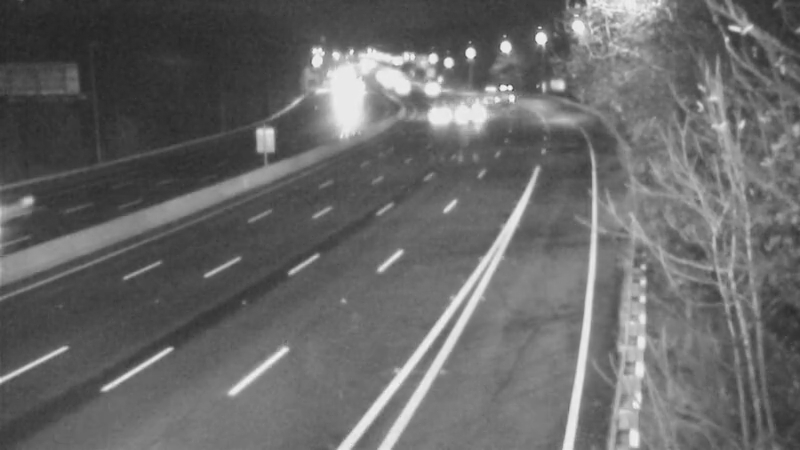vehicle: (1, 164, 67, 244), (404, 66, 454, 116), (375, 63, 425, 113), (480, 67, 530, 117), (412, 88, 462, 138), (451, 87, 501, 137)
